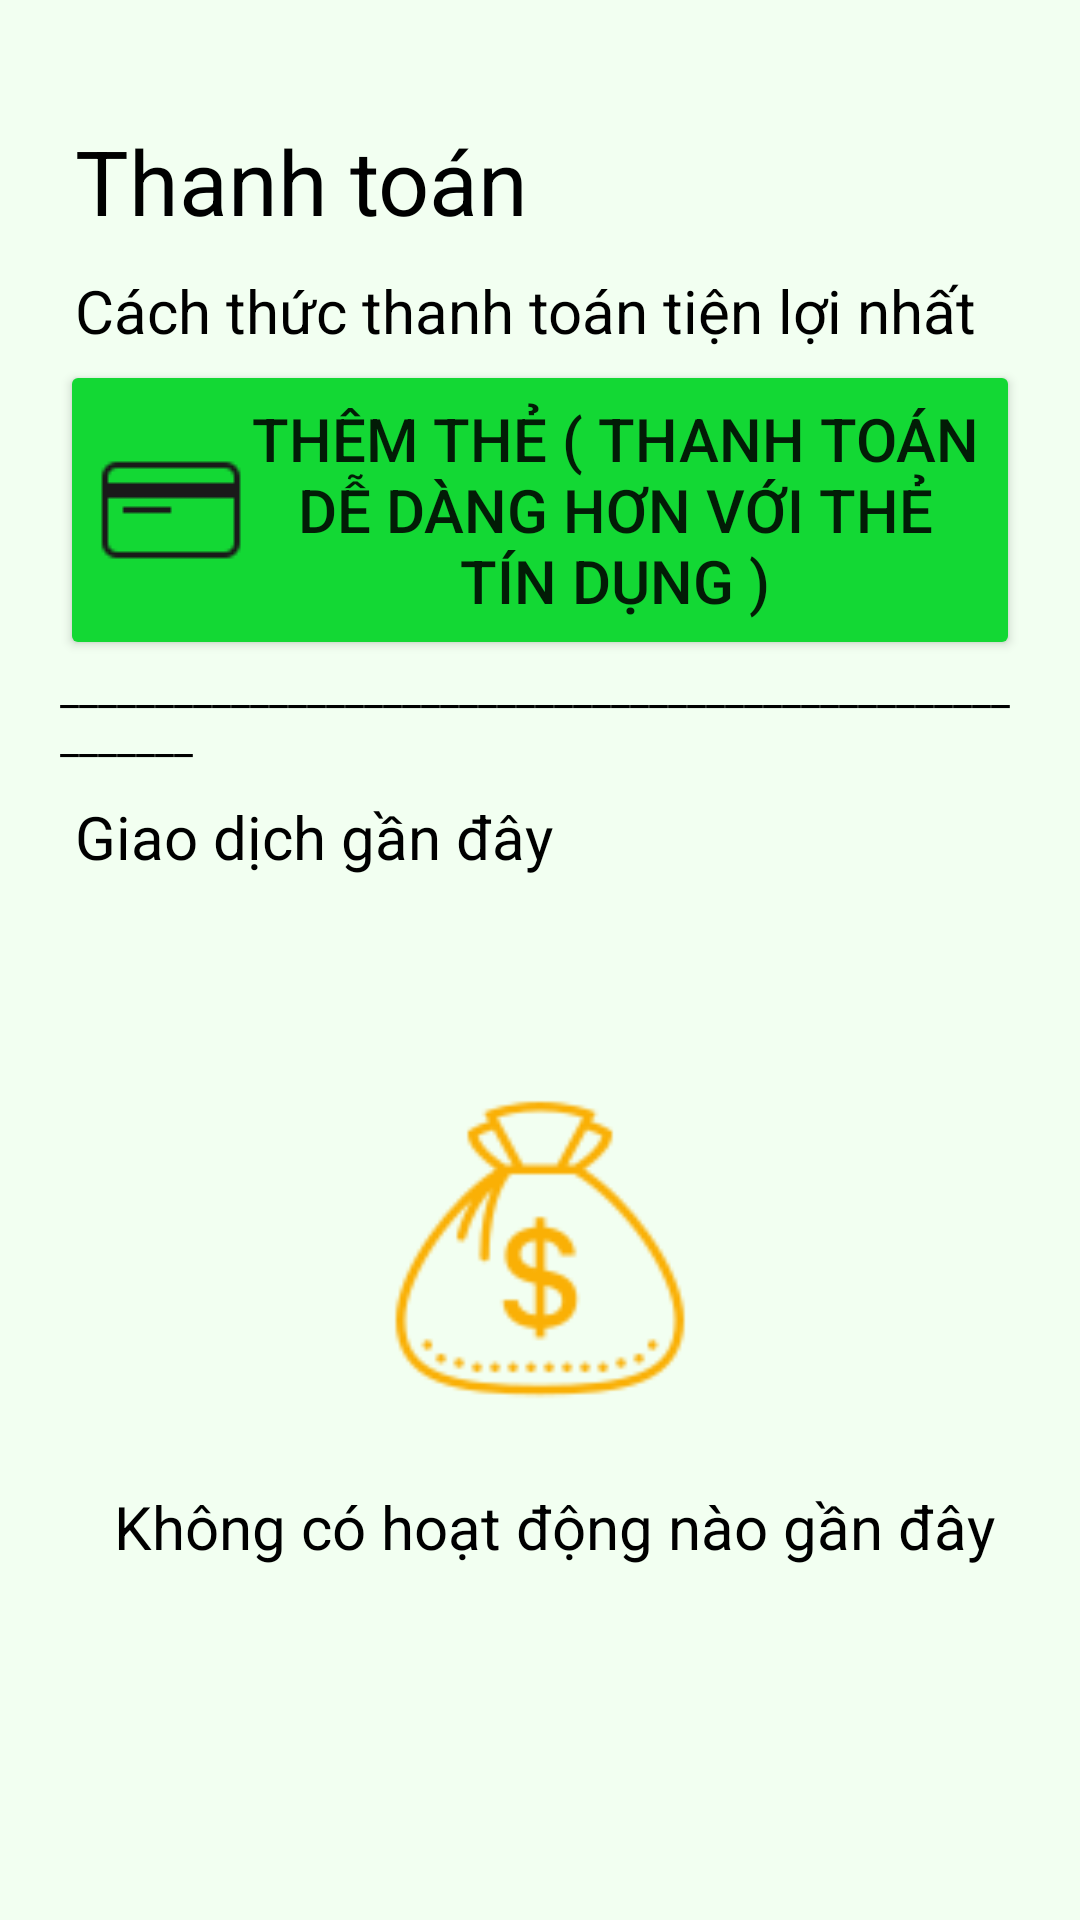

Where to tap for icons on this 1080px x 1920px app screen, as (x,y):
money: (540,1249)
